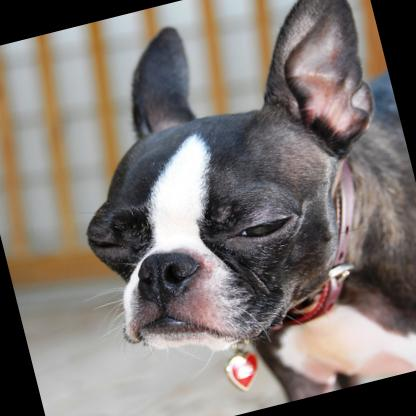French_bulldog: (19, 0, 416, 416)
